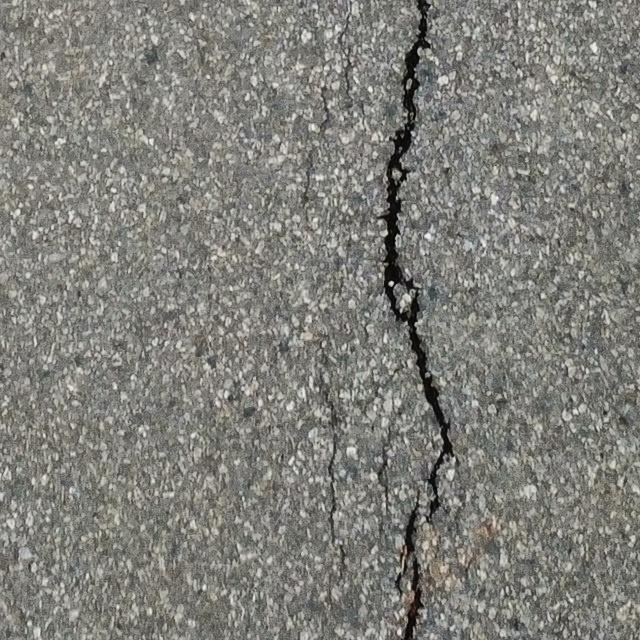LongitudinalCrack: (383, 1, 454, 640)
